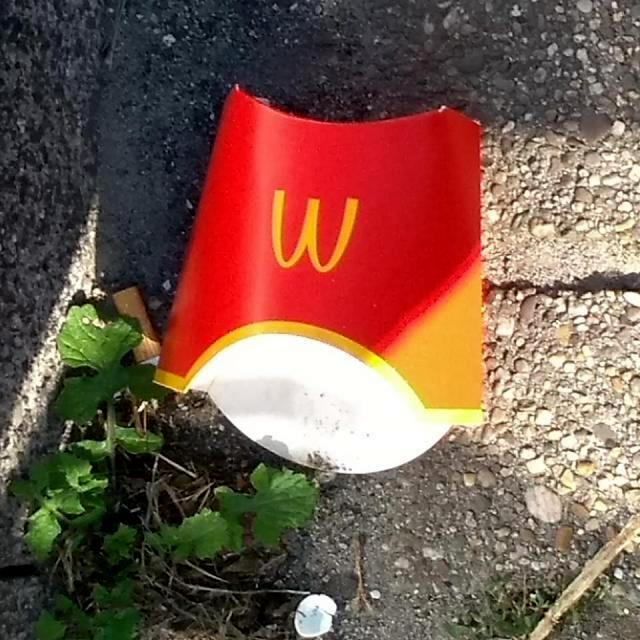Paper: (148, 84, 488, 478)
